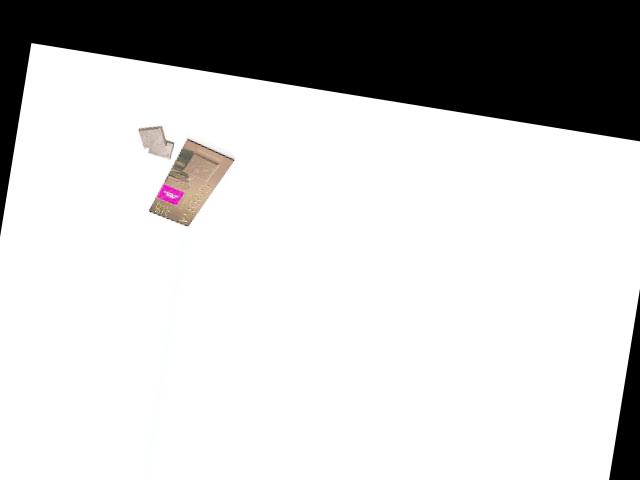chocolate: (145, 132, 237, 233)
